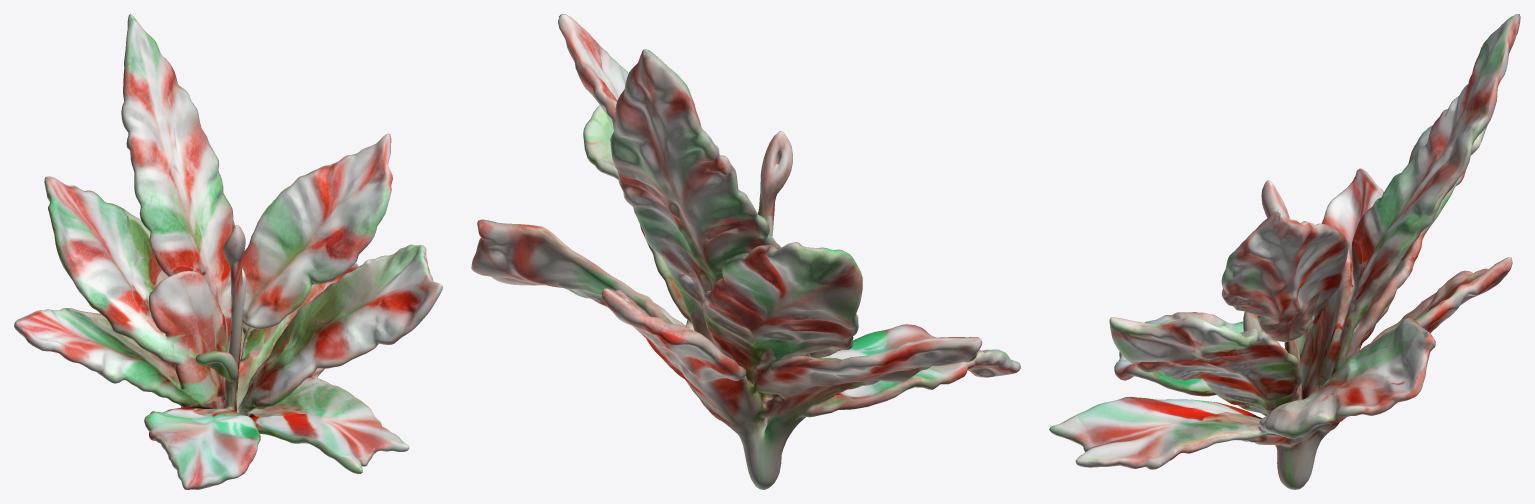
File: peppermint.glb
3 renders of one model, left to right at view 1: azimuth 30°, elevation 25°; view 2: azimuth 150°, elevation 25°; view 3: azimuth 270°, elevation 25°, orthographic. The views are drawn at different scales.
Size of the model in its own units: 1.88 by 2 by 1.81.
1 material, 1 textured.
